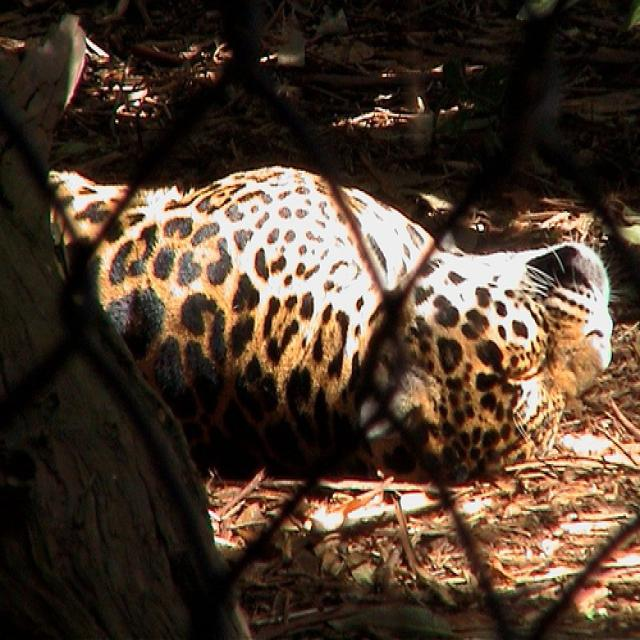Leopard: (41, 161, 612, 481)
